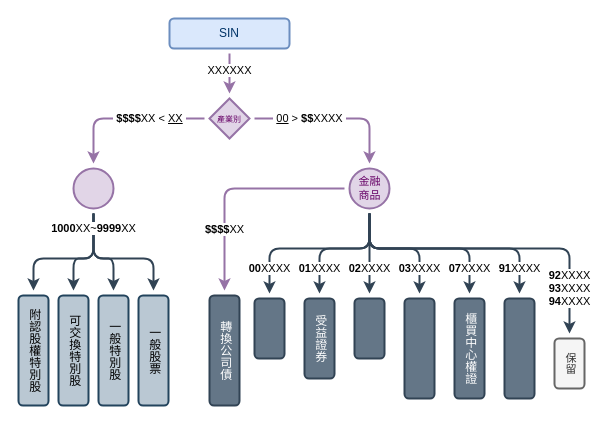
Some shapes in this 607 by 423 pixel diagram are drawn without their labels. Each missing label, with the centre of its shape:
E T F: point (269, 328)
E T N: point (369, 328)
存託憑證 (TDR): point (519, 348)
權益: point (93, 188)
集中市場權證: point (419, 348)
